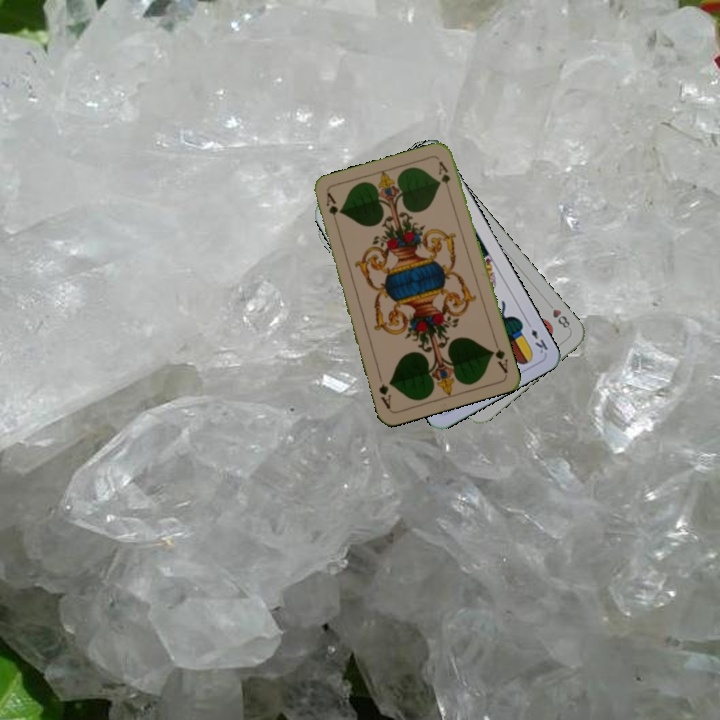EK: (523, 317, 550, 356)
GA: (487, 336, 511, 376), (322, 189, 340, 229)
H8: (548, 305, 573, 331)
